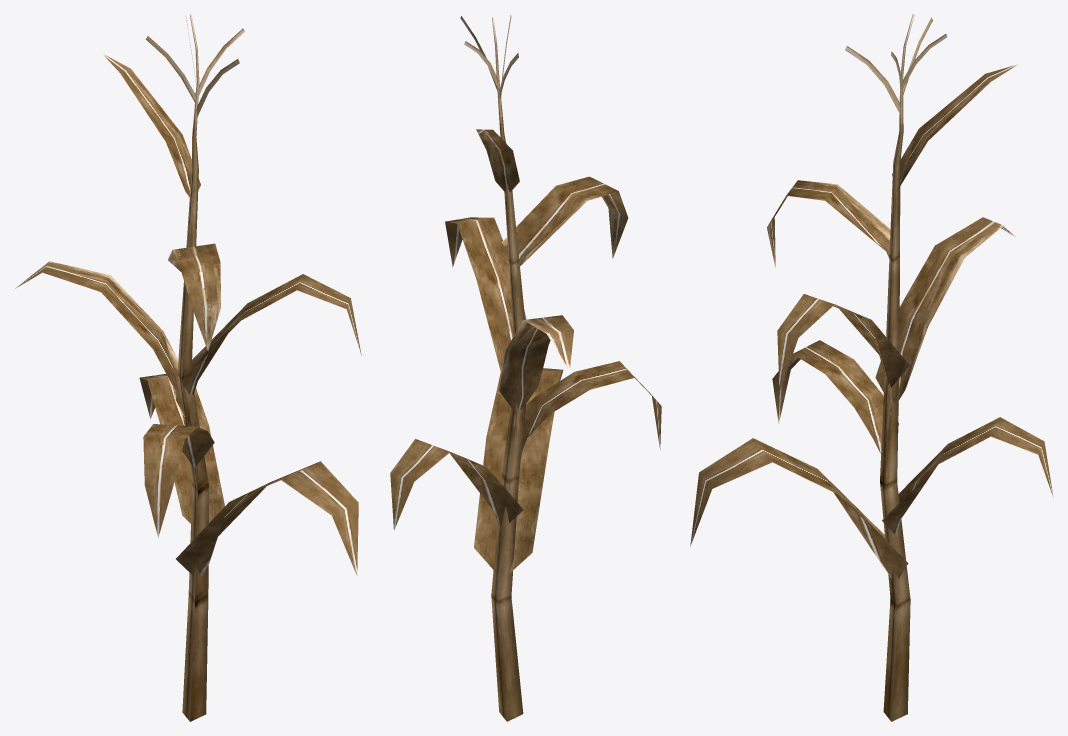
File: mw_corn_plant.FBX
3 views of the same model, side by side, from view 1: azimuth 30°, elevation 25°; view 2: azimuth 150°, elevation 25°; view 3: azimuth 270°, elevation 25° (orthographic).
Visible parts, largest first — view 1: mw_corn_plant; view 2: mw_corn_plant; view 3: mw_corn_plant.
Boxes of the visible parts, x1,y1,x2,y2 form: mw_corn_plant: [15, 14, 361, 721]; mw_corn_plant: [390, 15, 661, 721]; mw_corn_plant: [690, 14, 1053, 721].
Bounding box in the file's own units: 98.76 × 282 × 132.
